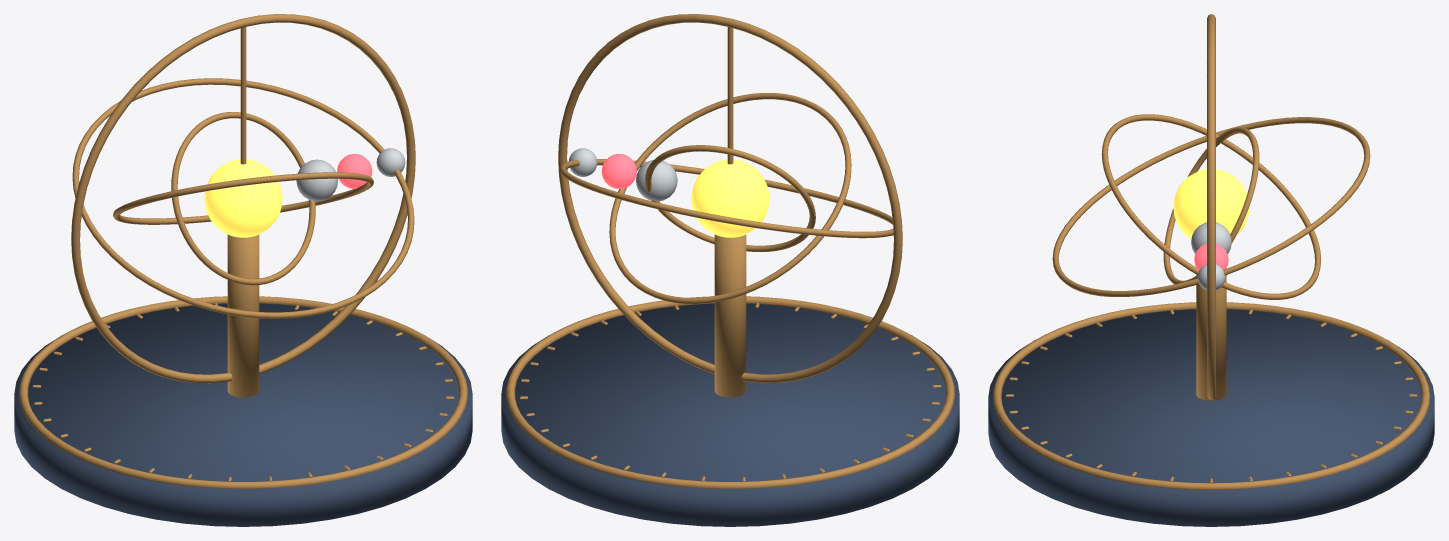
The model's file is duewatch.glb.
3 views of the same model, side by side, from view 1: azimuth 30°, elevation 25°; view 2: azimuth 150°, elevation 25°; view 3: azimuth 270°, elevation 25° (orthographic). The views are drawn at different scales.
Parts seen in each view (by area): view 1: duewatchMount, OrbitPivot0Mesh, OrbitPivot2Mesh, OrbitPivot1Mesh; view 2: duewatchMount, OrbitPivot1Mesh, OrbitPivot0Mesh, OrbitPivot2Mesh; view 3: duewatchMount, OrbitPivot0Mesh, OrbitPivot1Mesh, OrbitPivot2Mesh.
Boxes of the visible parts, box(x1,y1,x2,y2) form: duewatchMount: box(14, 14, 472, 526); OrbitPivot0Mesh: box(72, 78, 414, 318); OrbitPivot2Mesh: box(171, 112, 337, 285); OrbitPivot1Mesh: box(113, 154, 373, 224); duewatchMount: box(501, 14, 959, 526); OrbitPivot1Mesh: box(601, 93, 851, 304); OrbitPivot0Mesh: box(559, 148, 893, 238); OrbitPivot2Mesh: box(635, 145, 815, 251); duewatchMount: box(988, 14, 1434, 526); OrbitPivot0Mesh: box(1052, 117, 1370, 296); OrbitPivot1Mesh: box(1101, 114, 1321, 299); OrbitPivot2Mesh: box(1163, 127, 1259, 284).
Size of the model in its own units: 3.5 by 3.47 by 3.5.
